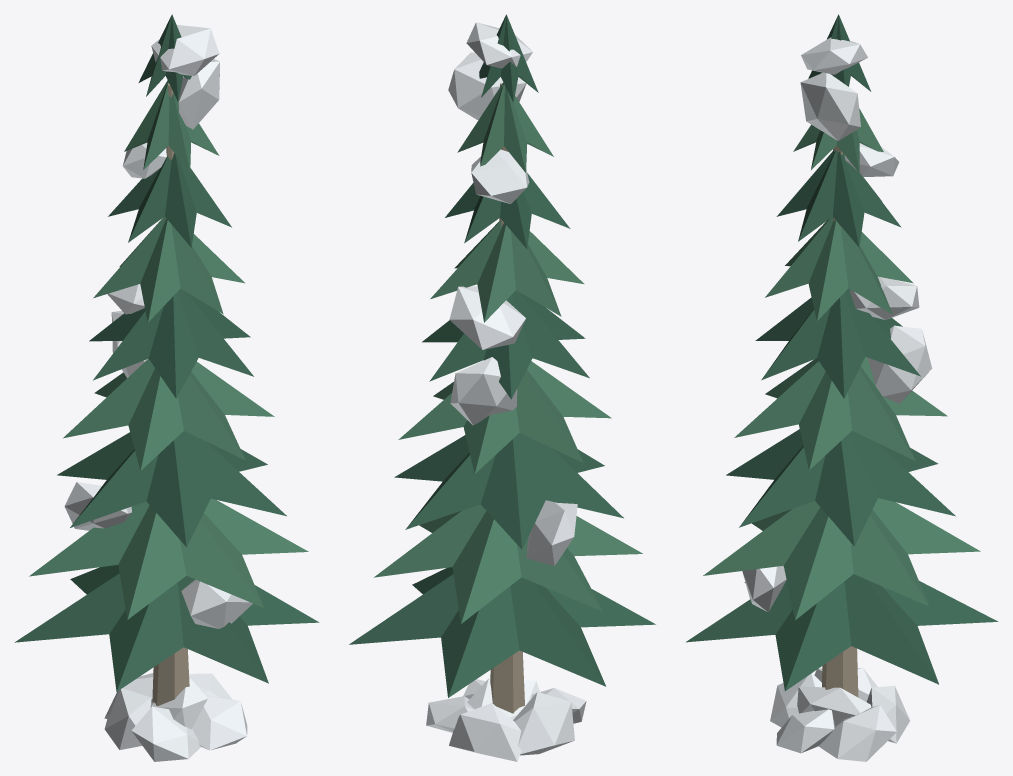
The model's file is SM_Tree_Conifer_Winter.glb.
3 renders of one model, left to right at view 1: azimuth 30°, elevation 25°; view 2: azimuth 150°, elevation 25°; view 3: azimuth 270°, elevation 25°, orthographic.
Parts seen in each view (by area): view 1: SM_Tree_Conifer_Winter; view 2: SM_Tree_Conifer_Winter; view 3: SM_Tree_Conifer_Winter.
Boxes of the visible parts, x1=… form: SM_Tree_Conifer_Winter: x1=14, y1=14, x2=319, y2=761; SM_Tree_Conifer_Winter: x1=349, y1=14, x2=655, y2=761; SM_Tree_Conifer_Winter: x1=686, y1=14, x2=998, y2=761.
Size of the model in its own units: 2.45 by 6.7 by 2.66.
